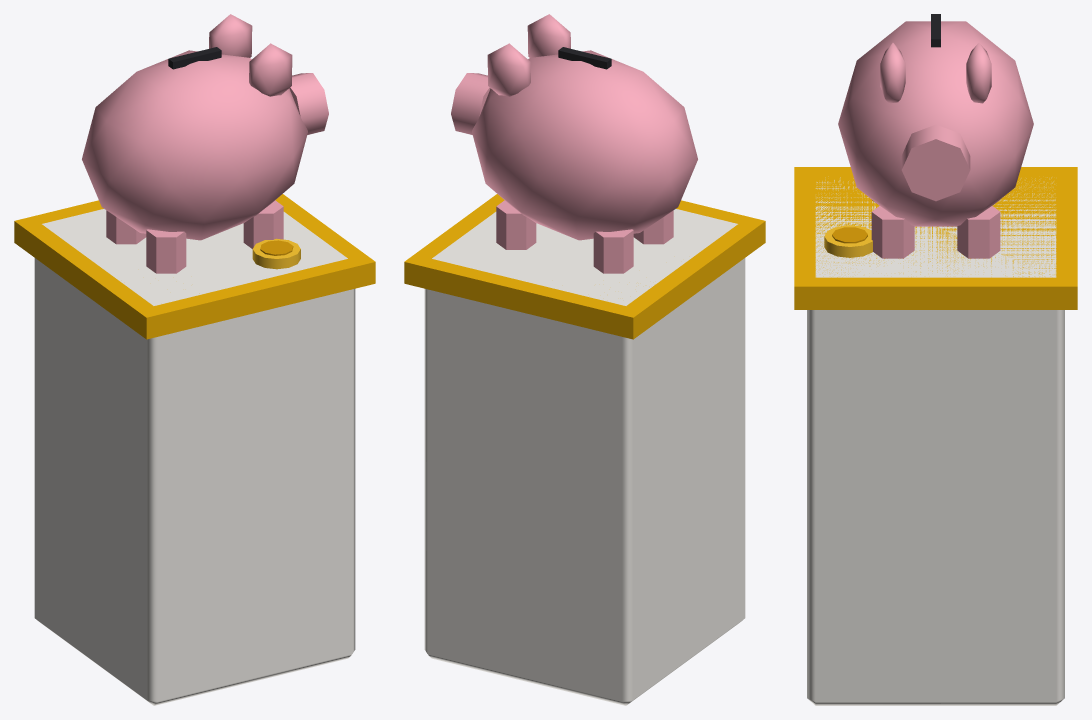
Rendered from station_special_ausstattung_1_0.glb.
The picture shows the model from 3 angles, left to right: view 1: azimuth 30°, elevation 25°; view 2: azimuth 150°, elevation 25°; view 3: azimuth 270°, elevation 25°; orthographic projection. The views are drawn at different scales.
Parts seen in each view (by area): view 1: station_special_ausstattung_1_0; view 2: station_special_ausstattung_1_0; view 3: station_special_ausstattung_1_0.
Part boxes in pixels (<box>): station_special_ausstattung_1_0: <box>14,14,375,705</box>; station_special_ausstattung_1_0: <box>404,14,765,705</box>; station_special_ausstattung_1_0: <box>794,14,1077,705</box>.
Bounding box in the file's own units: 0.335 × 0.824 × 0.33.
